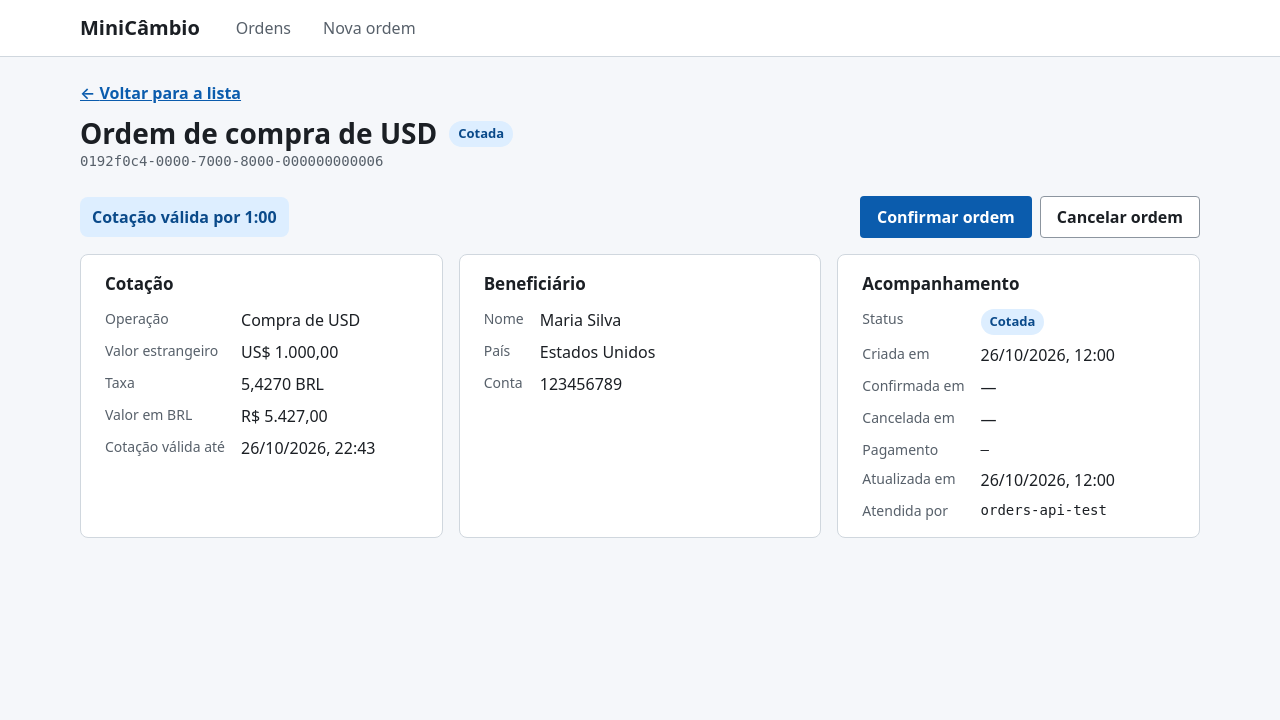
OrderDetailsPage › cancelar abre o diálogo com foco em "Voltar" e Esc fecha sem cancelar
This screenshot has width=1280, height=720.
Step 1. Click the button "Cancelar ordem" → (1120, 217), box [1040,196,1200,238]
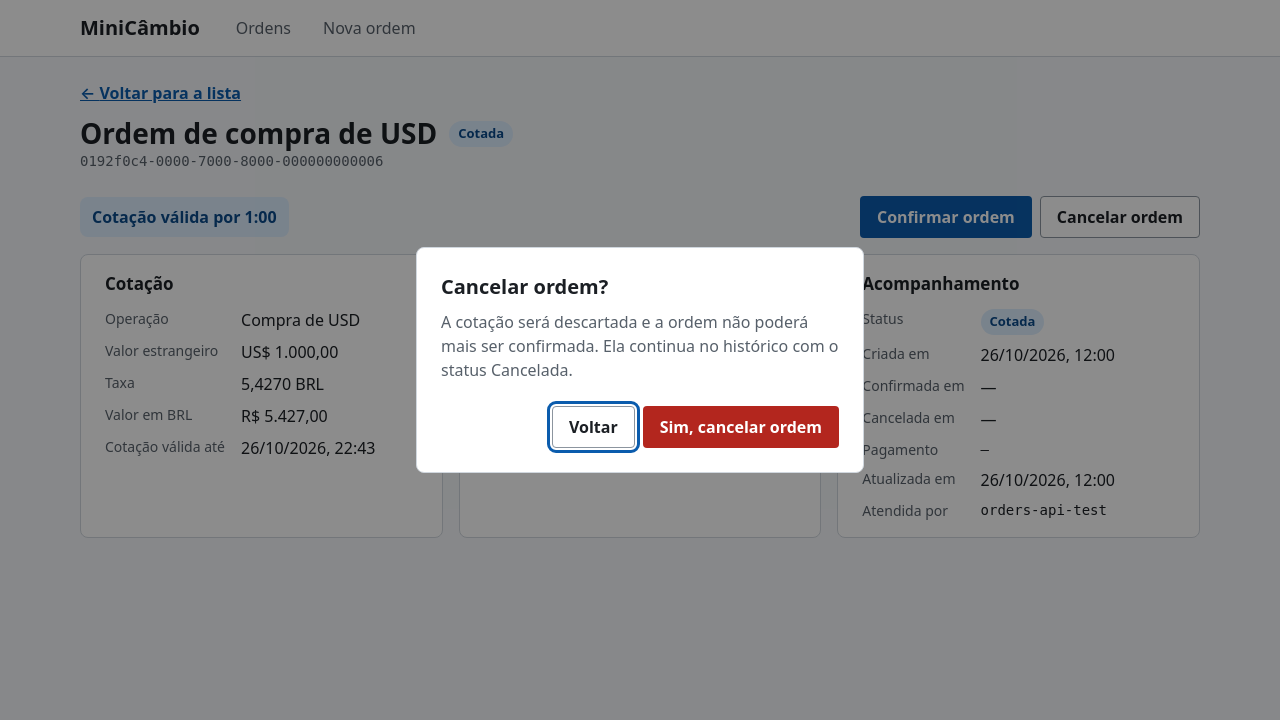
Step 2. Press Escape
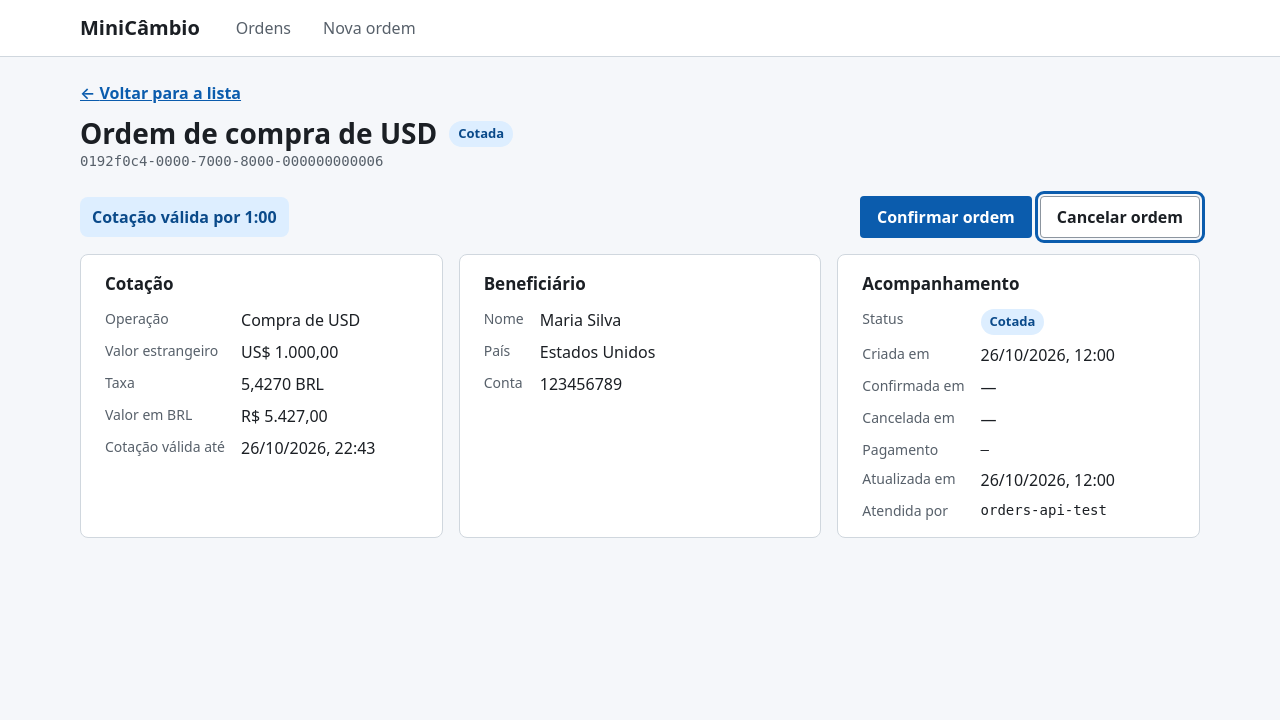
Result: the dialog is gone
